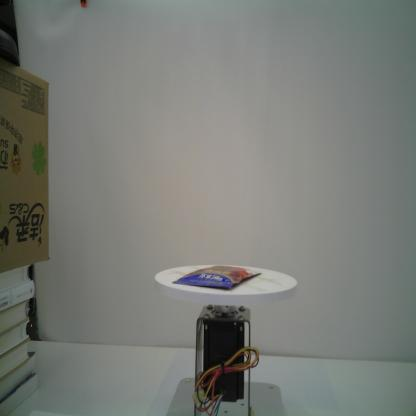Seasoner: (172, 266, 261, 289)
